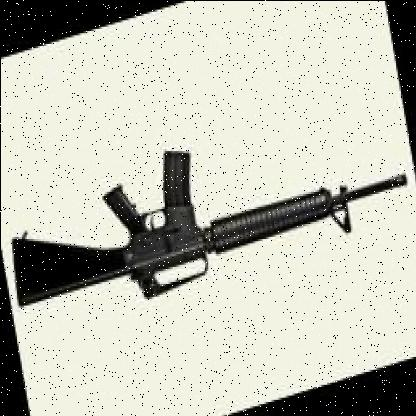rifle: (0, 83, 416, 338)
